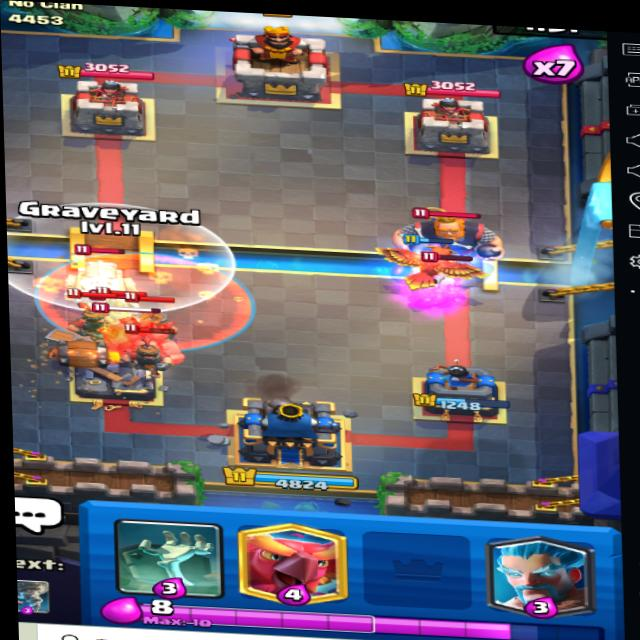golem: (82, 299, 194, 371)
royal-giant: (392, 205, 507, 270)
royal-recruits: (114, 328, 171, 382), (75, 294, 113, 338)
sparky: (60, 241, 140, 312)
